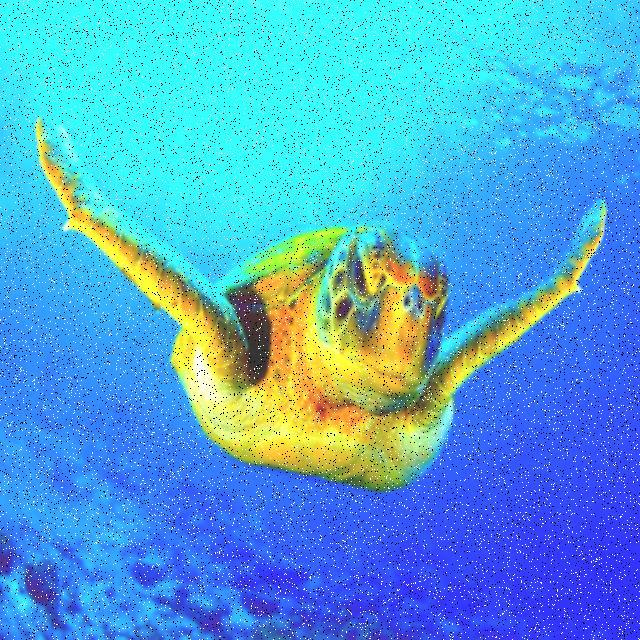tortoise: (34, 120, 606, 488)
